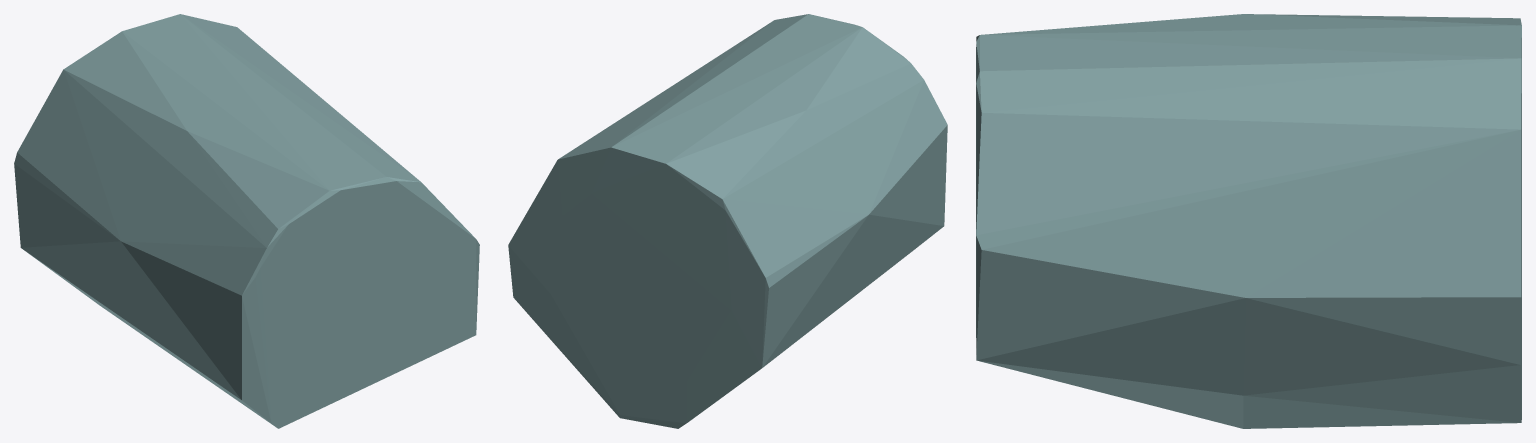
Rendered from handTool_socket_19_32in_b01.glb.
3 views of the same model, side by side, from view 1: azimuth 30°, elevation 25°; view 2: azimuth 150°, elevation 25°; view 3: azimuth 270°, elevation 25° (orthographic). The views are drawn at different scales.
Parts seen in each view (by area): view 1: geometry_0; view 2: geometry_0; view 3: geometry_0.
Part boxes in pixels (<box>): geometry_0: <box>14,14,479,428</box>; geometry_0: <box>508,14,947,428</box>; geometry_0: <box>976,14,1521,428</box>.
Size of the model in its own units: 0.3656 by 0.3619 by 0.4799.
